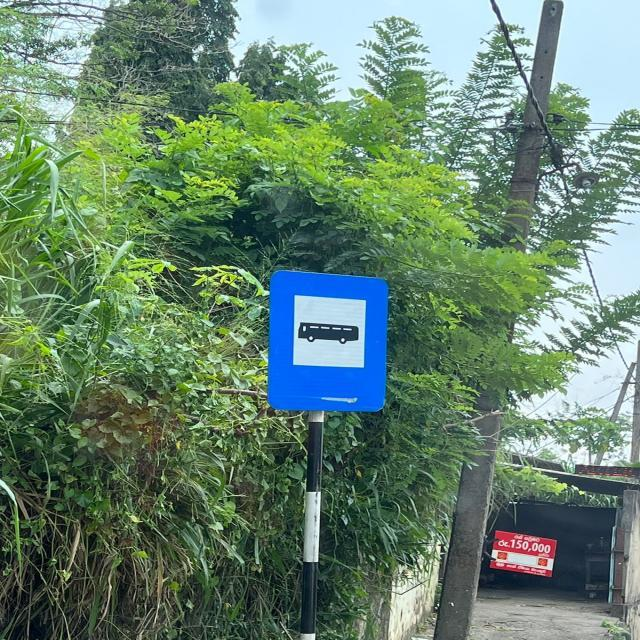bus_stop: (262, 264, 396, 416)
